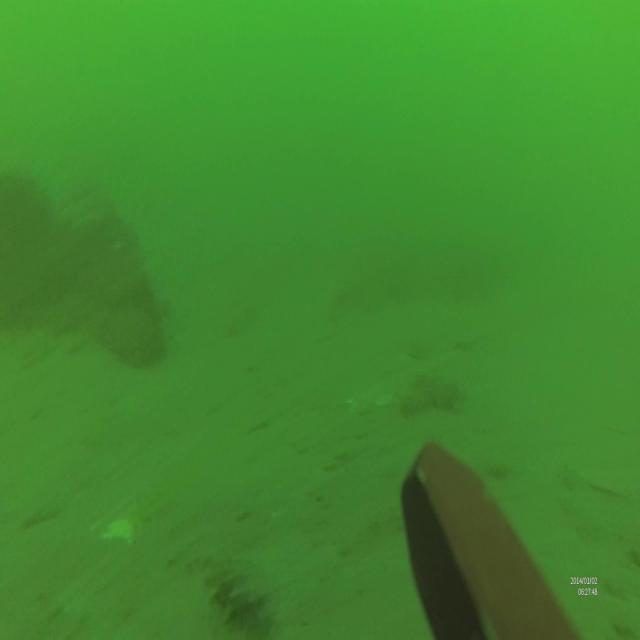holothurian: (198, 553, 272, 636)
